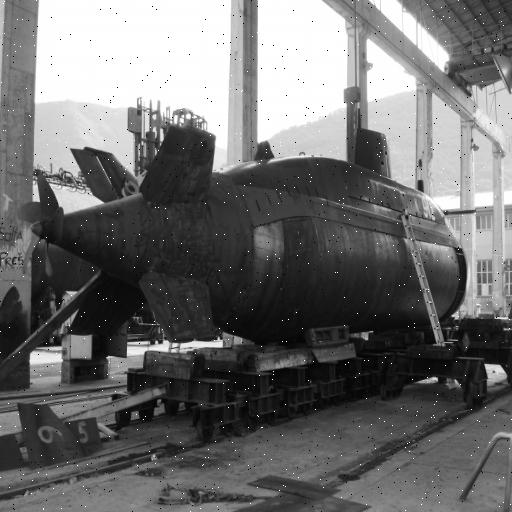submarine: (22, 124, 478, 347)
